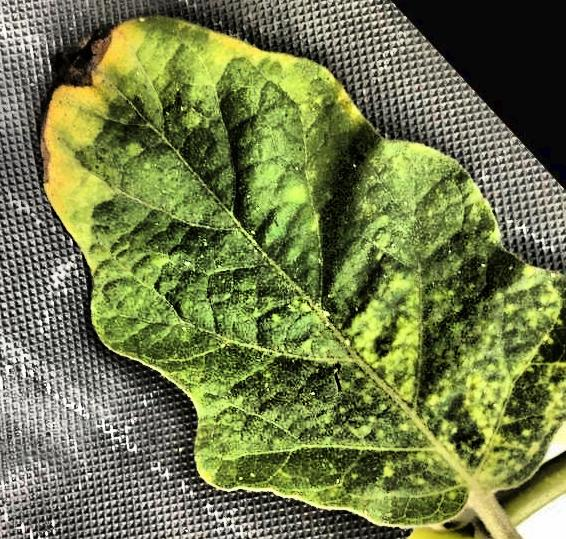Non-critical Stress: (0, 1, 566, 539)
